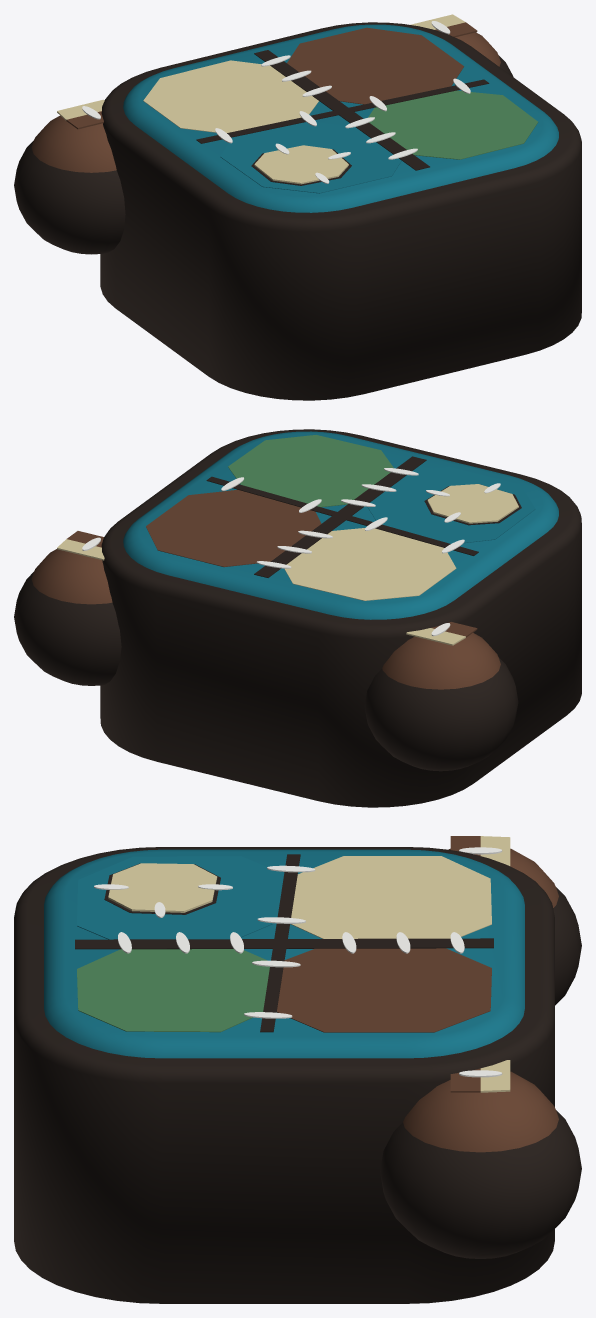
The model's file is body_retalhos.fbx.
The picture shows the model from 3 angles, top to bottom: view 1: azimuth 30°, elevation 25°; view 2: azimuth 150°, elevation 25°; view 3: azimuth 270°, elevation 25°; orthographic projection. The views are drawn at different scales.
Parts seen in each view (by area): view 1: body_retalhos_corpo, body_retalhos_mao_esq, body_retalhos_mao; view 2: body_retalhos_corpo, body_retalhos_mao_esq, body_retalhos_mao; view 3: body_retalhos_corpo, body_retalhos_mao, body_retalhos_mao_esq.
Part boxes in pixels (<box>): body_retalhos_corpo: <box>100,22,581,400</box>; body_retalhos_mao_esq: <box>14,99,125,254</box>; body_retalhos_mao: <box>410,14,513,76</box>; body_retalhos_corpo: <box>100,429,581,807</box>; body_retalhos_mao_esq: <box>364,622,518,771</box>; body_retalhos_mao: <box>14,531,121,685</box>; body_retalhos_corpo: <box>14,847,554,1303</box>; body_retalhos_mao: <box>380,1060,581,1258</box>; body_retalhos_mao_esq: <box>449,836,581,1005</box>.
Size of the model in its own units: 5.4 by 2.03 by 4.2.
1 material, 1 textured.
